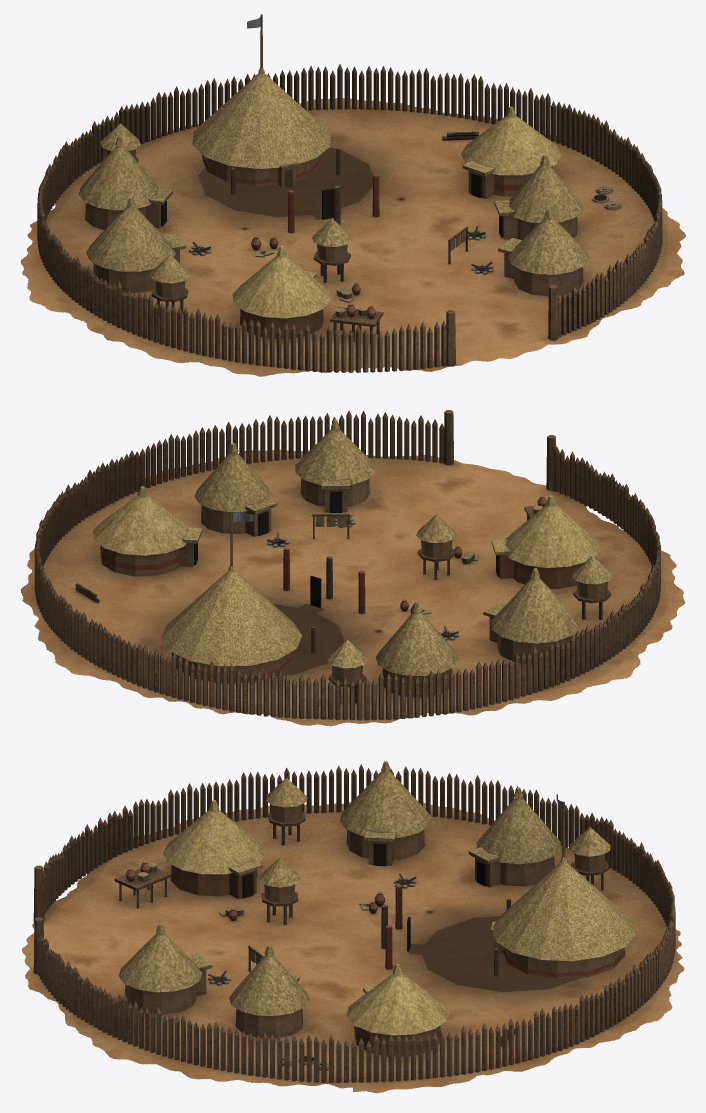
The model's file is stone-town-small-a.glb.
3 renders of one model, top to bottom at view 1: azimuth 30°, elevation 25°; view 2: azimuth 150°, elevation 25°; view 3: azimuth 270°, elevation 25°, orthographic. The views are drawn at different scales.
Visible parts, largest first — view 1: LOD0; view 2: LOD0; view 3: LOD0.
Part boxes in pixels (<box>): LOD0: <box>20,14,685,376</box>; LOD0: <box>21,410,685,726</box>; LOD0: <box>22,761,684,1093</box>.
Size of what is drawn, in the model's own units: 4.01 by 0.9701 by 3.82.
Materials: 3 (3 with a texture image).
